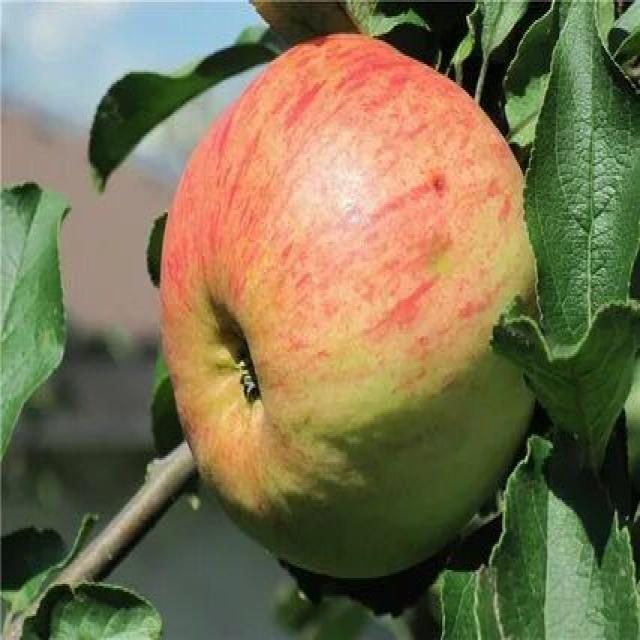Healty Apple: (160, 34, 550, 574)
